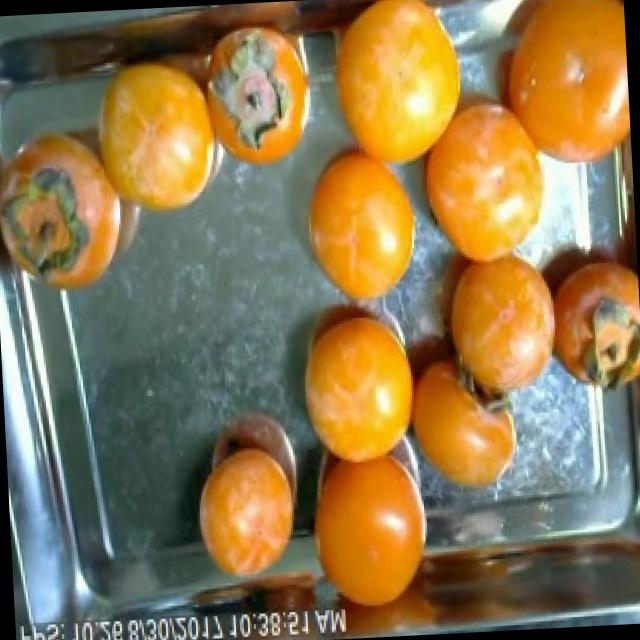Fruit: (69, 27, 231, 233), (311, 0, 481, 193), (278, 281, 430, 478), (284, 124, 426, 319), (179, 408, 302, 592)
